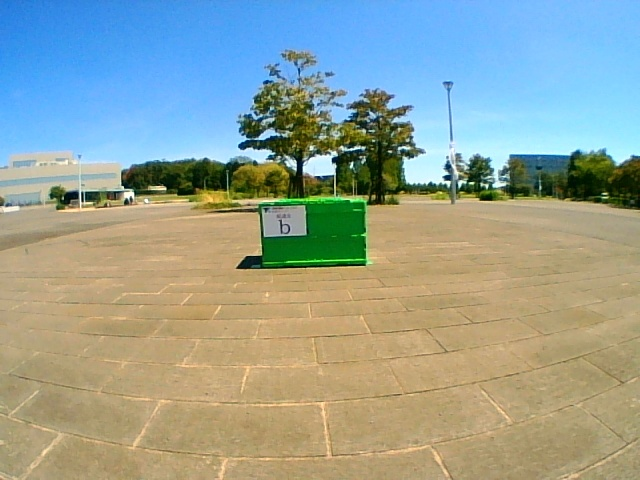green_box: (259, 198, 367, 267)
tag_b: (263, 206, 306, 236)
